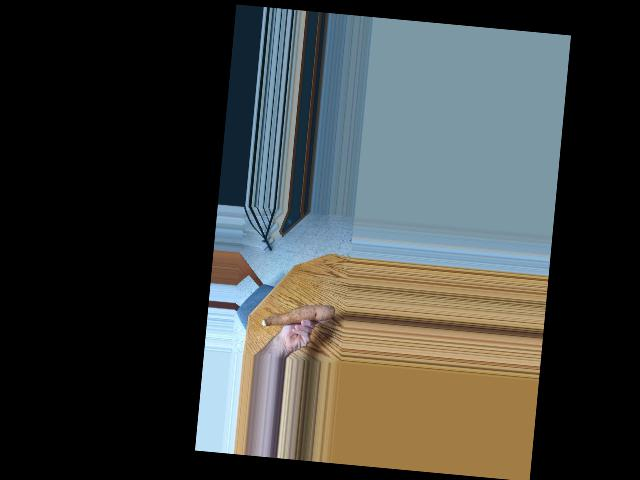sweet_potato: (260, 296, 334, 335)
